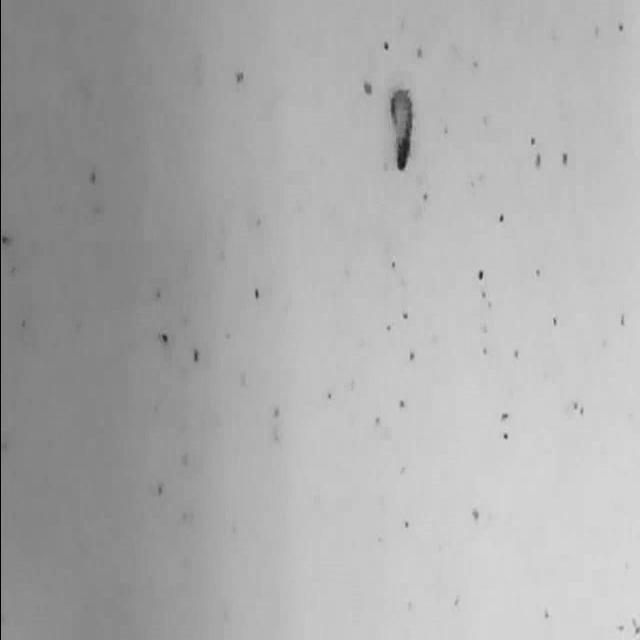larvas: (389, 86, 414, 171)
